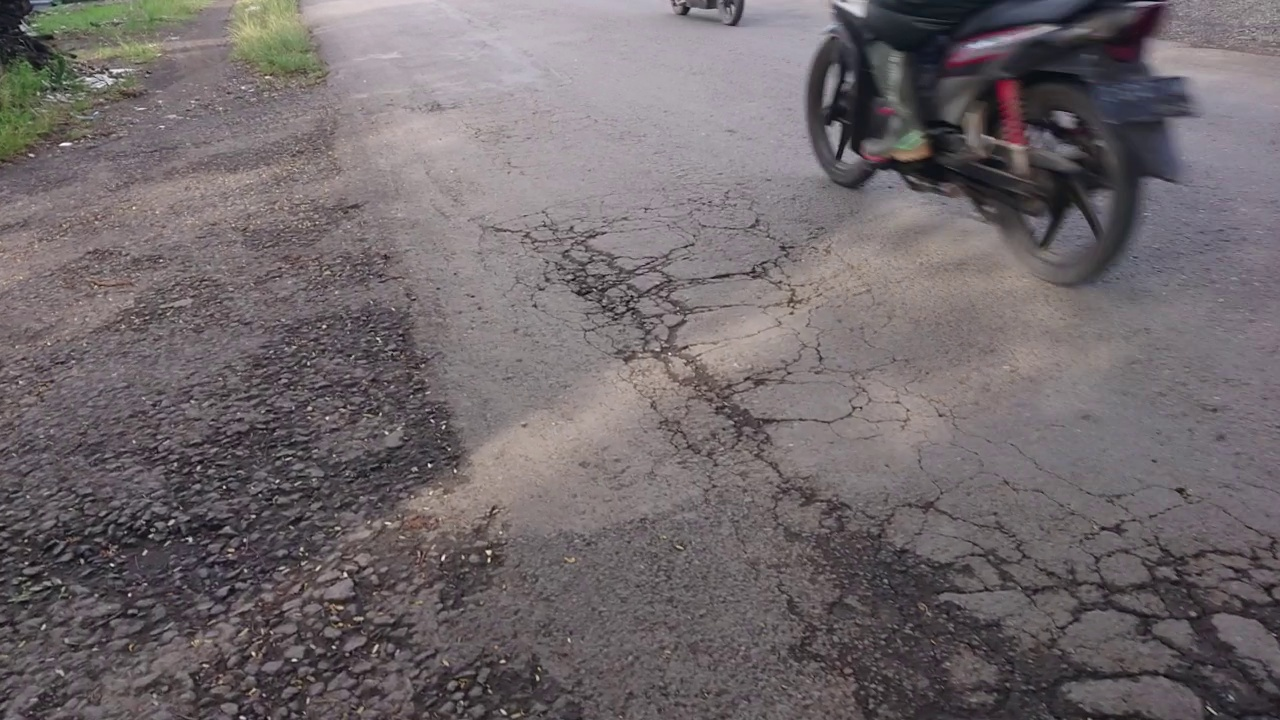Retak: (811, 488, 1280, 720), (549, 236, 798, 485)
